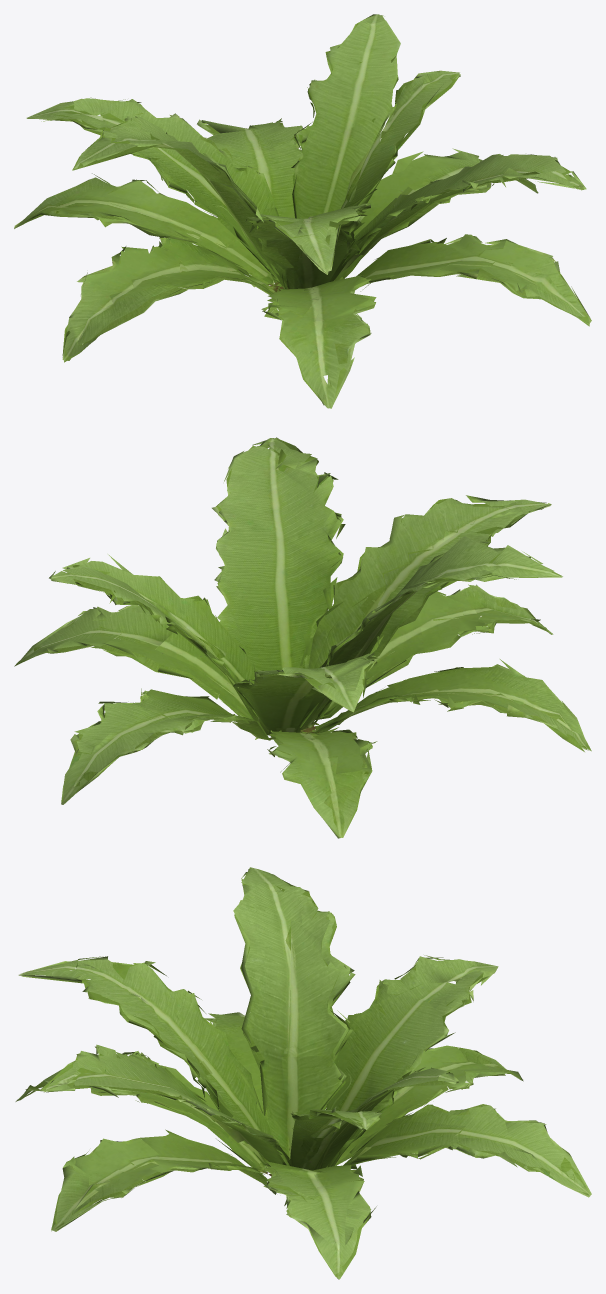
File: staurogyne.glb
3 views of the same model, one above another, from view 1: azimuth 30°, elevation 25°; view 2: azimuth 150°, elevation 25°; view 3: azimuth 270°, elevation 25° (orthographic). The views are drawn at different scales.
Parts seen in each view (by area): view 1: staurogyne; view 2: staurogyne; view 3: staurogyne.
Boxes of the visible parts, x1,y1,x2,y2 form: staurogyne: [14, 14, 591, 408]; staurogyne: [14, 437, 591, 838]; staurogyne: [15, 867, 591, 1279].
Size of the model in its own units: 0.9976 by 0.3901 by 0.9849.
Materials: 1 (1 with a texture image).
